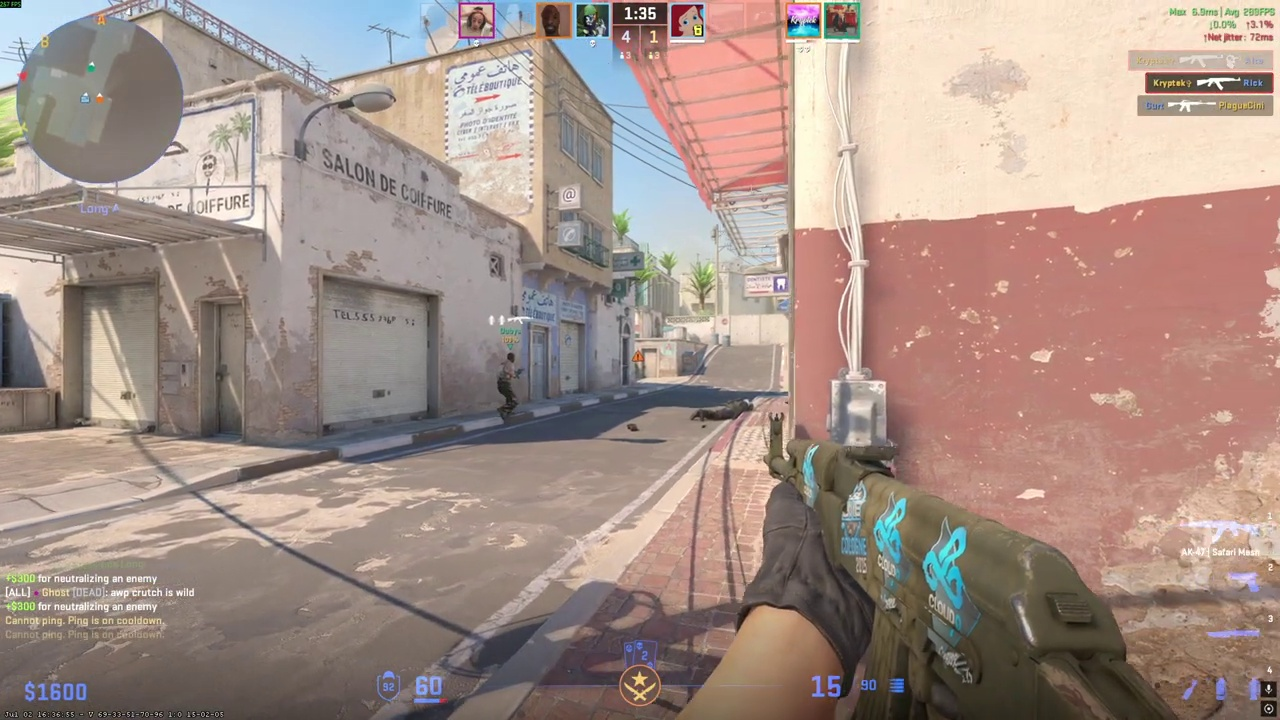Terrorist: (496, 352, 522, 421)
